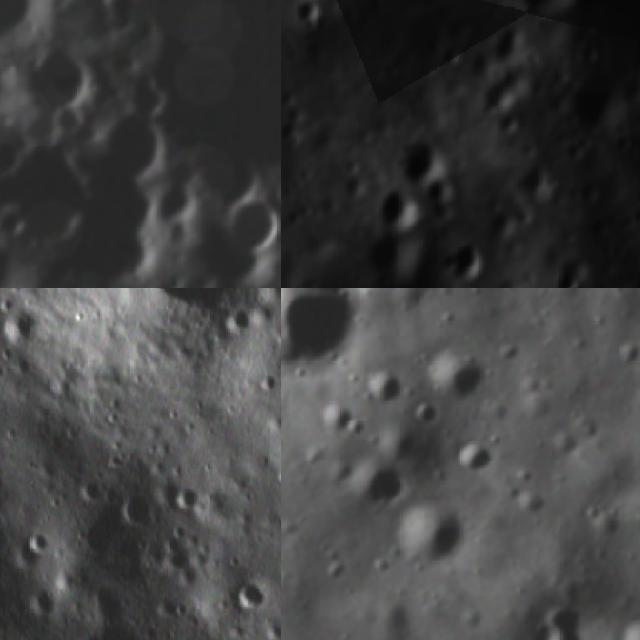crater: (138, 0, 281, 191), (281, 288, 370, 386), (14, 33, 102, 125), (81, 104, 172, 192), (378, 504, 476, 574), (221, 181, 281, 263), (133, 288, 256, 327), (568, 64, 632, 130), (351, 459, 408, 525), (432, 348, 492, 410), (358, 232, 413, 284), (0, 0, 50, 54), (515, 604, 589, 640), (436, 236, 486, 286), (444, 439, 506, 479), (399, 132, 448, 182), (595, 0, 640, 54), (376, 181, 424, 229), (5, 305, 48, 353), (512, 155, 558, 198), (487, 15, 525, 66), (117, 489, 163, 531), (361, 371, 412, 408), (380, 431, 422, 474), (314, 402, 357, 440), (233, 578, 275, 614), (284, 0, 324, 32), (409, 400, 444, 436), (175, 484, 207, 521), (29, 588, 61, 624), (510, 0, 590, 14), (77, 474, 108, 508), (24, 526, 58, 557)
